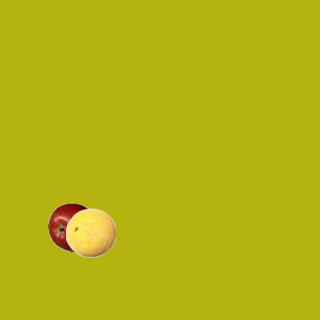Apple Braeburn: (47, 202, 97, 252)
Cantaloupe 1: (65, 207, 115, 257)
